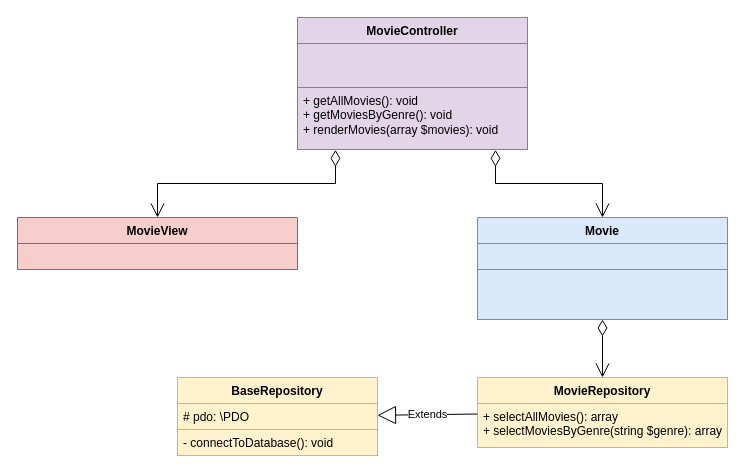
Some shapes in this 745 by 476 pixel diagram are drawn without their labels. Each missing label, with the centre of its shape:
"+ displayMovies(int $counter, array $movies): void" goes at point 157,256.
"+ fetchAllMovies(): array + fetchMoviesByGenre(string $genre): array" goes at point 602,294.
"- movie: Movie - movieView: MovieView" goes at point 412,65.
"- movieRepository: MovieRepository" goes at point 602,256.
